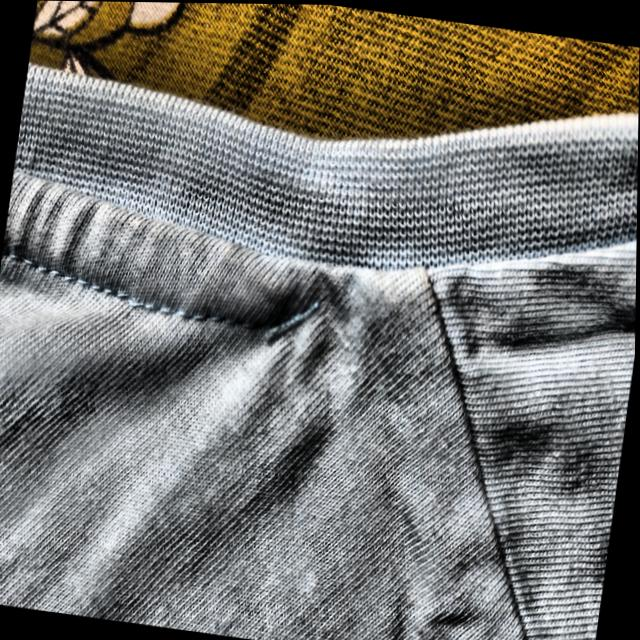Stitch: (216, 242, 371, 376)
